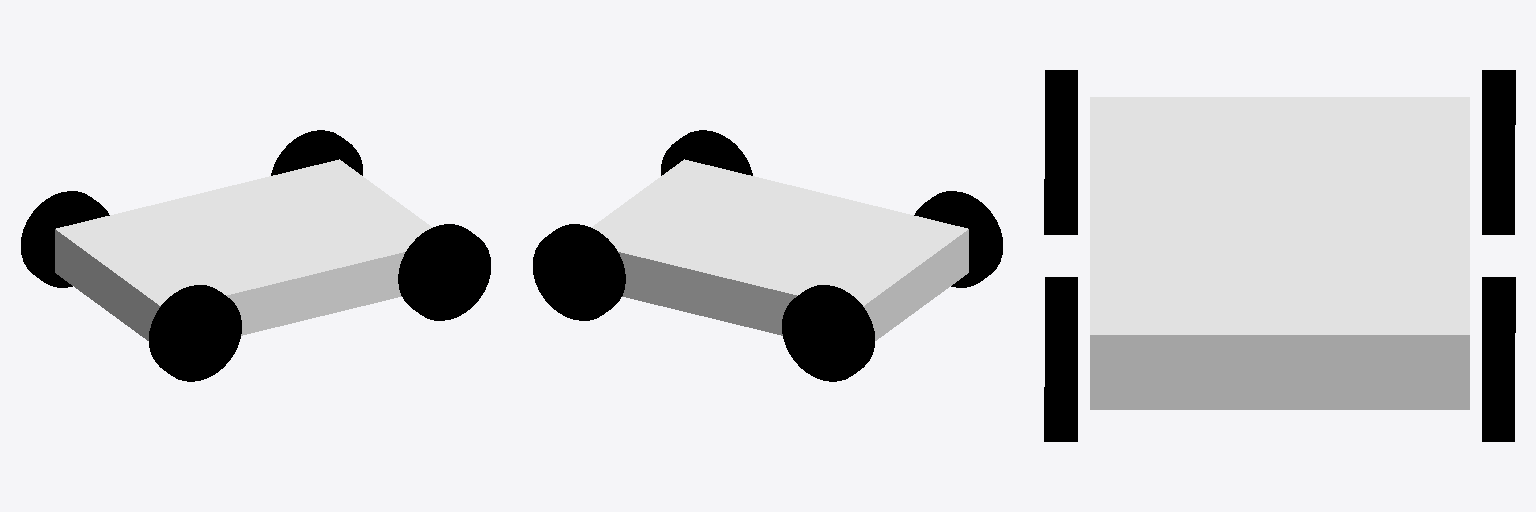
The robot description file, URDF, robot "wheeltec_robot":
<?xml version="1.0" ?>
<robot name="wheeltec_robot">

    <link name="base_link">
        <visual>
            <origin xyz=" 0.29 0 0.1" rpy="0 0 0" />
            <geometry>
                <box size="0.68 0.46 0.100"/>
            </geometry>
            <material name="white">
                <color rgba="1.0 1.0 1.0 1.0"/>
            </material>
        </visual>
    </link>   

    <joint name="left_wheel_joint" type="continuous">
        <origin xyz="-0 0.265 0.10" rpy="1.57 0 0"/>
        <parent link="base_link"/>
        <child link="left_wheel_link"/>
        <axis xyz="0 1 0"/>
    </joint>

    <link name="left_wheel_link">
        <visual>
            <origin xyz="0 0 0" rpy="0 0 0" />
            <geometry>
                <cylinder radius="0.10" length = "0.04"/>
            </geometry>
            <material name="black">
                <color rgba="0 0 0 1"/>
            </material>
        </visual>
    </link>

    <joint name="right_wheel_joint" type="continuous">
        <origin xyz="-0 -0.265 0.10" rpy="1.57 0 0"/>
        <parent link="base_link"/>
        <child link="right_wheel_link"/>
        <axis xyz="0 1 0"/>
    </joint>

    <link name="right_wheel_link">
        <visual>
            <origin xyz="0 0 0" rpy="0 0 0" />
            <geometry>
                <cylinder radius="0.10" length = "0.04"/>
            </geometry>
            <material name="black">
                <color rgba="0 0 0 1"/>
            </material>
        </visual>
    </link>

      <joint name="left_front_joint" type="continuous">
        <origin xyz="0.595 0.265 0.10" rpy="1.57 0 0"/>
        <parent link="base_link"/>
        <child link="left_front_link"/>
        <axis xyz="0 1 0"/>
    </joint>

    <link name="left_front_link">
        <visual>
            <origin xyz="0 0 0" rpy="0 0 0" />
            <geometry>
                <cylinder radius="0.10" length = "0.04"/>
            </geometry>
            <material name="black">
                <color rgba="0 0 0 1"/>
            </material>
        </visual>
    </link>

    <joint name="right_front_joint" type="continuous">
        <origin xyz="0.595 -0.265 0.10" rpy="1.57 0 0"/>
        <parent link="base_link"/>
        <child link="right_front_link"/>
        <axis xyz="0 1 0"/>
    </joint>

    <link name="right_front_link">
        <visual>
            <origin xyz="0 0 0" rpy="0 0 0" />
            <geometry>
                <cylinder radius="0.10" length = "0.04"/>
            </geometry>
            <material name="black">
                <color rgba="0 0 0 1"/>
            </material>
        </visual>
    </link>


</robot>

--- Render facts (derived) ---
3 views of the same robot in one strip: view 1: azimuth 30°, elevation 25°; view 2: azimuth 150°, elevation 25°; view 3: azimuth 270°, elevation 25° (orthographic).
Robot: wheeltec_robot — 5 links, 4 joints (4 continuous); root link base_link; default pose: every joint at zero.
Visible links, largest first — view 1: base_link, right_wheel_link, right_front_link, left_wheel_link, left_front_link; view 2: base_link, left_wheel_link, left_front_link, right_wheel_link, right_front_link; view 3: base_link, right_wheel_link, left_front_link, left_wheel_link, right_front_link.
Boxes of the visible links, x1=… form: base_link: x1=55, y1=159, x2=432, y2=340; right_wheel_link: x1=149, y1=285, x2=241, y2=381; right_front_link: x1=398, y1=224, x2=490, y2=320; left_wheel_link: x1=21, y1=191, x2=109, y2=287; left_front_link: x1=271, y1=130, x2=362, y2=175; base_link: x1=591, y1=159, x2=968, y2=340; left_wheel_link: x1=782, y1=285, x2=874, y2=381; left_front_link: x1=533, y1=224, x2=625, y2=320; right_wheel_link: x1=914, y1=191, x2=1002, y2=287; right_front_link: x1=661, y1=130, x2=752, y2=175; base_link: x1=1090, y1=97, x2=1469, y2=409; right_wheel_link: x1=1044, y1=70, x2=1077, y2=234; left_front_link: x1=1482, y1=277, x2=1515, y2=441; left_wheel_link: x1=1482, y1=70, x2=1515, y2=234; right_front_link: x1=1044, y1=277, x2=1077, y2=441.
Size in the robot's own frame: 0.795 by 0.5702 by 0.2 metres.
Geometry: primitives only (box / cylinder / sphere), no mesh files.
